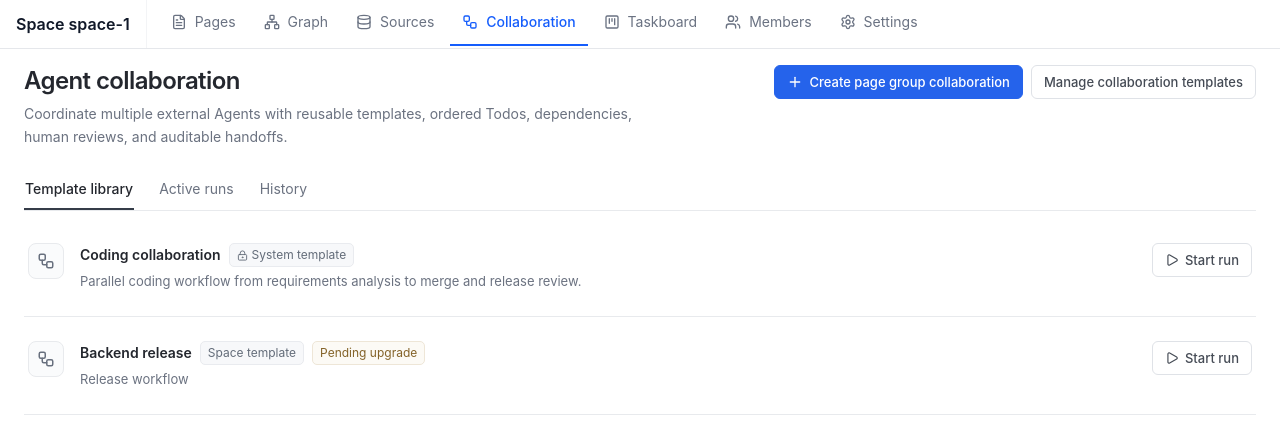
Test: CollaborationWorkspace › shows active and history runs on separate tabs
Expected: the heading "Coding collaboration" is shown, x1=80 y1=243 x2=221 y2=267
Click the tab "Active runs" at coordinates (196, 189), box x1=158 y1=168 x2=235 y2=210
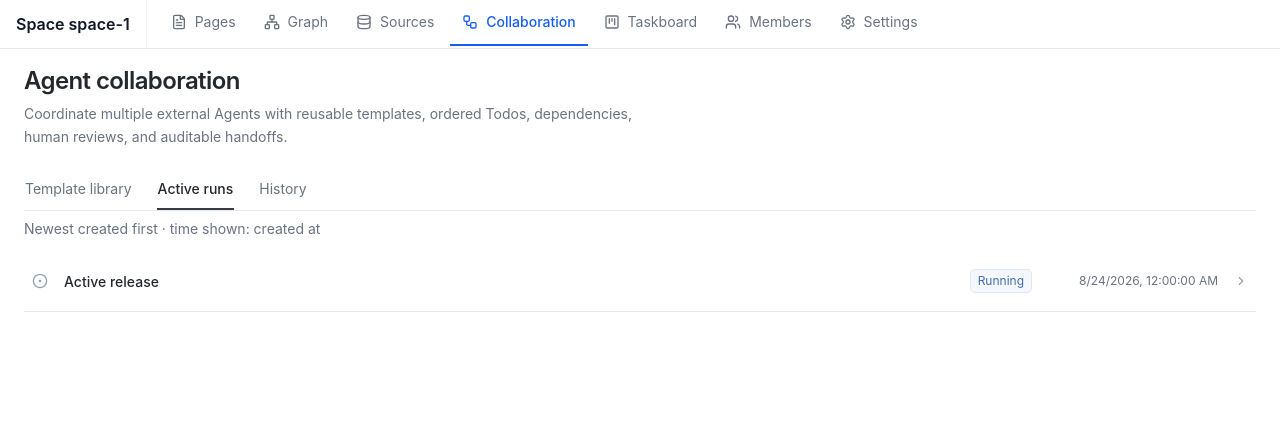
Expected: the text "Active release" is shown, x1=64 y1=273 x2=159 y2=290
Click the tab "History" at coordinates (283, 189), box x1=258 y1=168 x2=308 y2=210
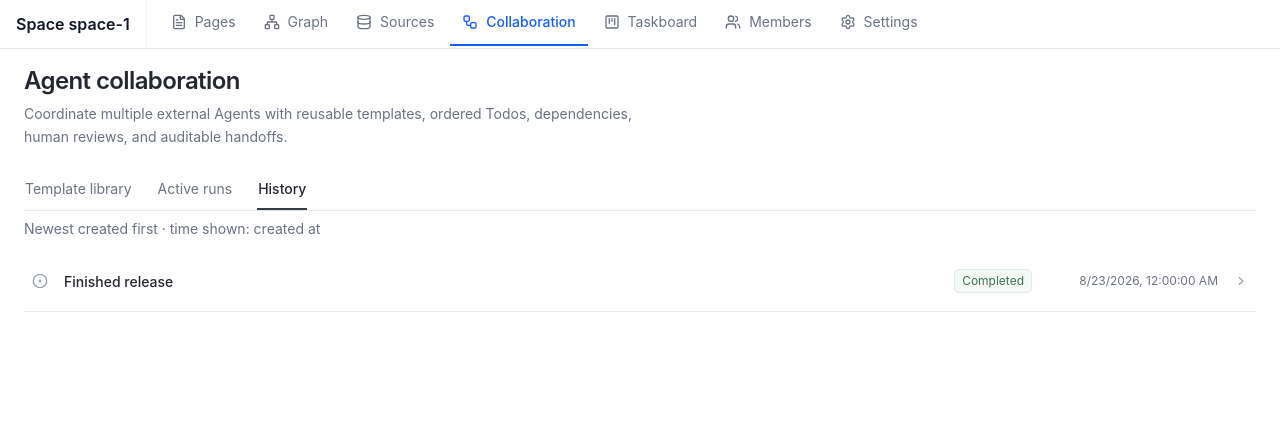
Expected: the text "Finished release" is shown, x1=64 y1=273 x2=173 y2=290
